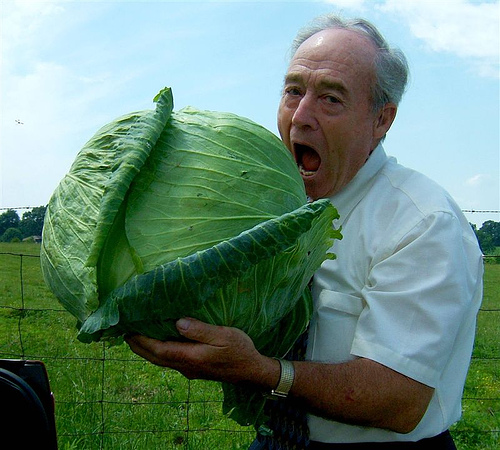cabbage: (40, 85, 345, 352)
